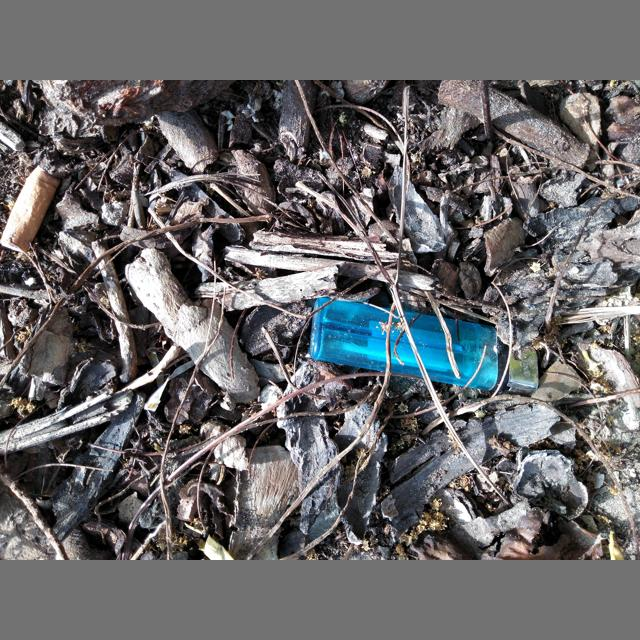litter: (309, 298, 538, 396), (0, 166, 61, 253)
